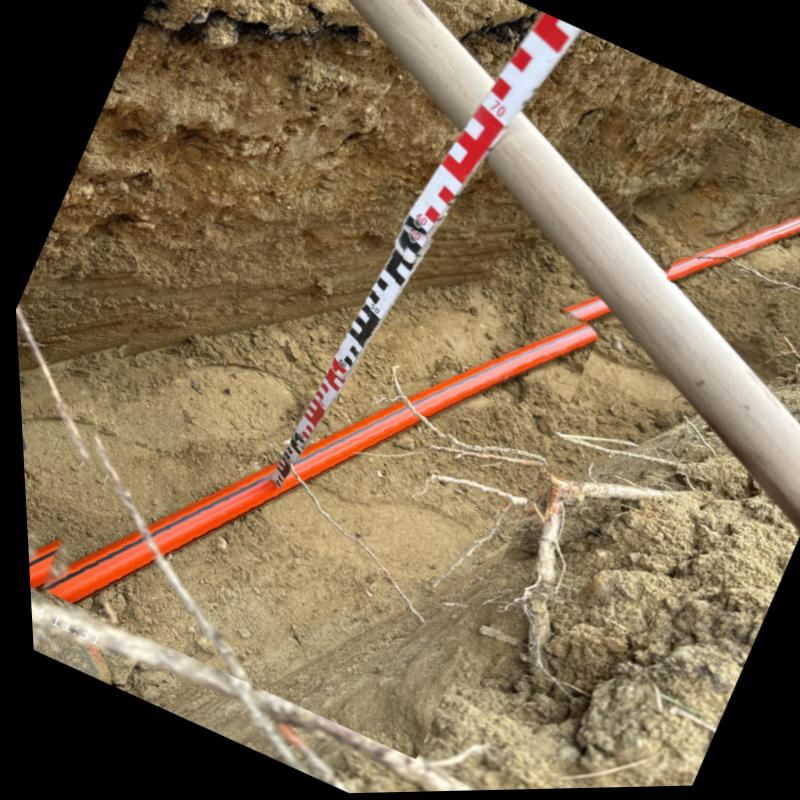Orang-Speednetrohrchen: (31, 320, 596, 598), (664, 221, 800, 286)
